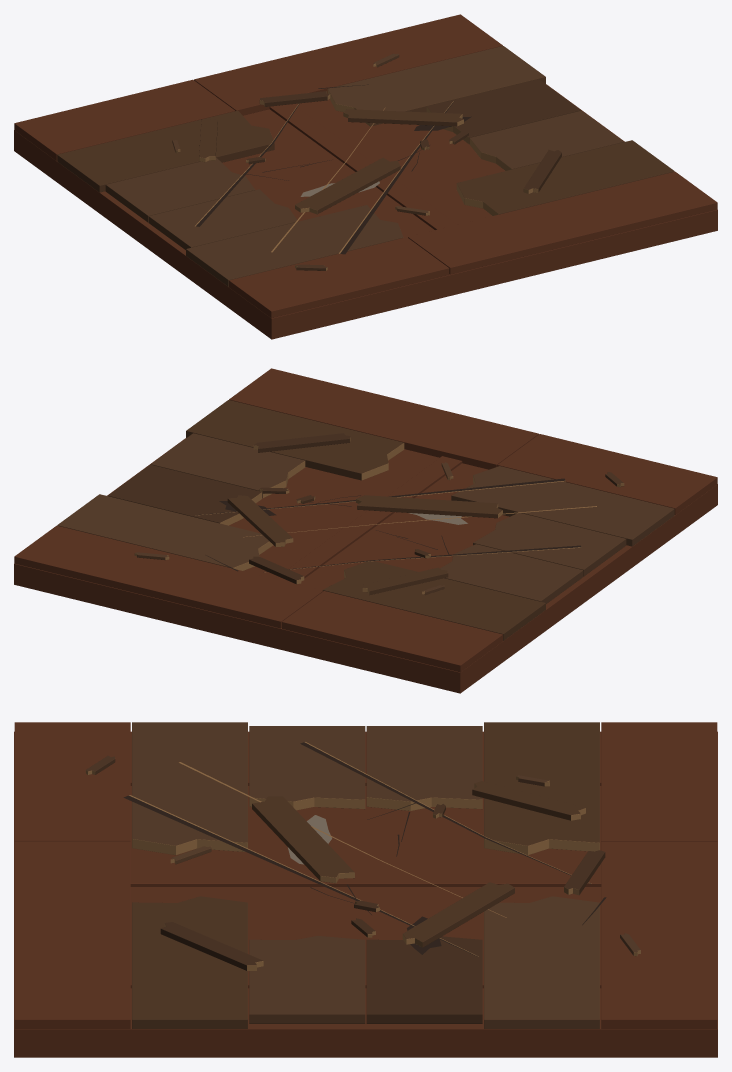
File: MASTER_Room_floor_v2.fbx
3 views of the same model, one above another, from view 1: azimuth 30°, elevation 25°; view 2: azimuth 150°, elevation 25°; view 3: azimuth 270°, elevation 25° (orthographic). The views are drawn at different scales.
Visible parts, largest first — view 1: 02_DirectorFloor_Wrecked_Subfloor_And_Joists; view 2: 02_DirectorFloor_Wrecked_Subfloor_And_Joists; view 3: 02_DirectorFloor_Wrecked_Subfloor_And_Joists.
Part boxes in pixels (<box>): 02_DirectorFloor_Wrecked_Subfloor_And_Joists: <box>14,14,717,339</box>; 02_DirectorFloor_Wrecked_Subfloor_And_Joists: <box>14,368,717,693</box>; 02_DirectorFloor_Wrecked_Subfloor_And_Joists: <box>14,722,717,1057</box>.
Bounding box in the file's own units: 100 × 7.1 × 100.
